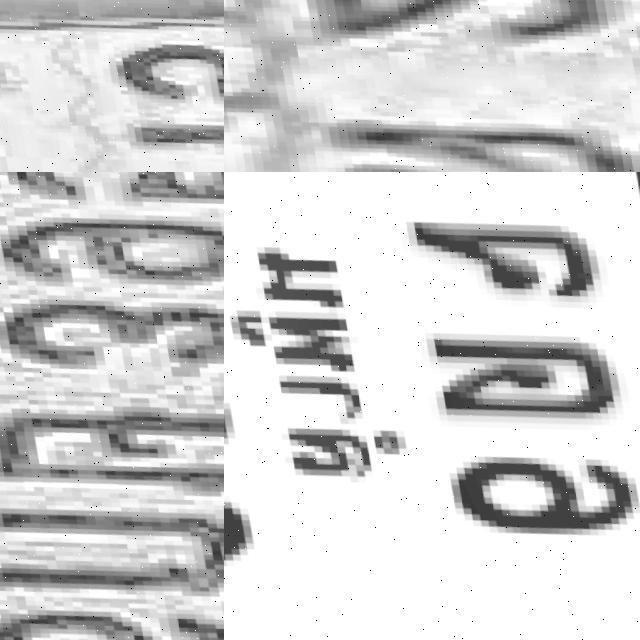license-plate: (224, 172, 640, 640), (0, 172, 224, 640), (224, 0, 640, 172), (0, 0, 224, 172)
